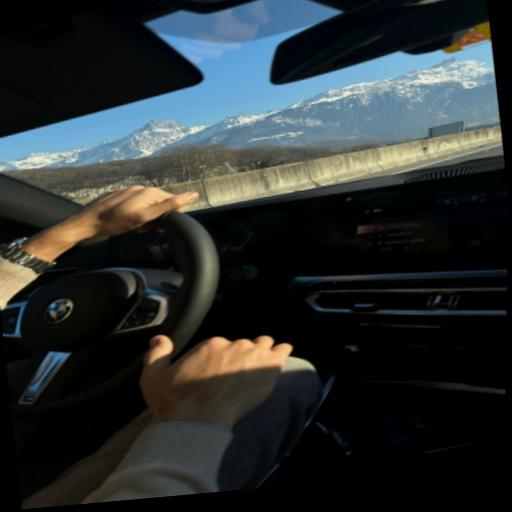Hands-on-the-Wheel: (14, 151, 250, 275)
